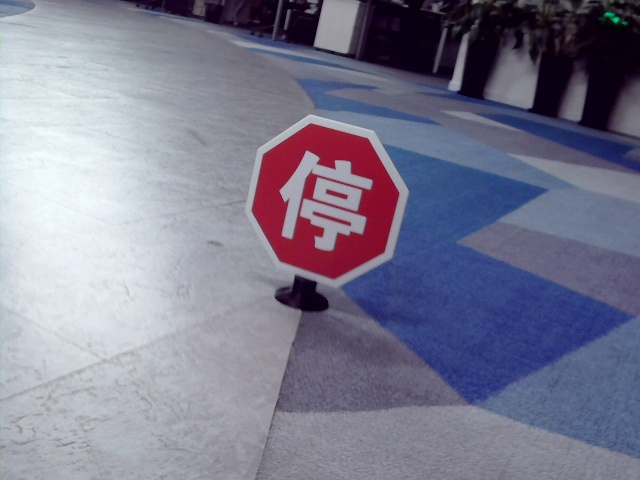stop: (278, 150, 371, 252)
